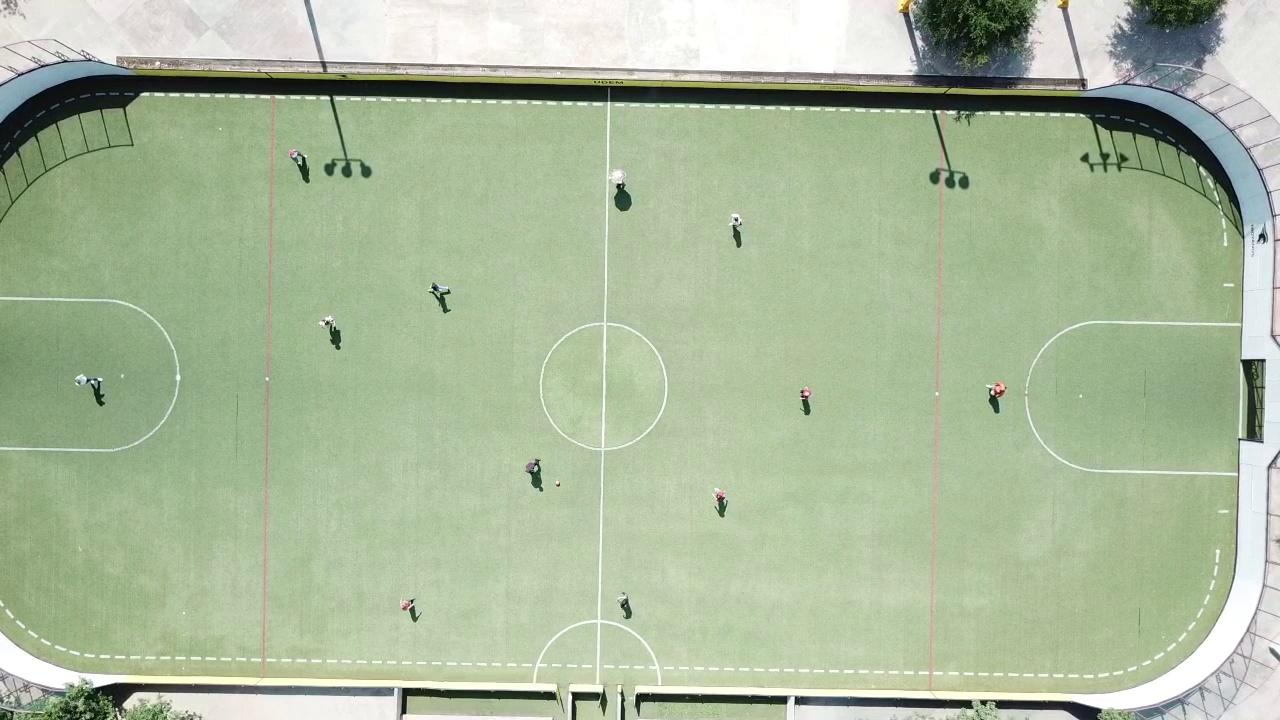ball: (555, 480, 560, 486)
player: (73, 372, 104, 391), (984, 380, 1005, 398), (609, 168, 627, 189), (288, 148, 306, 166), (430, 282, 450, 296), (319, 314, 336, 330), (525, 458, 541, 474), (617, 593, 630, 612), (400, 598, 414, 611), (712, 488, 726, 501), (731, 213, 743, 228), (800, 387, 811, 400)
